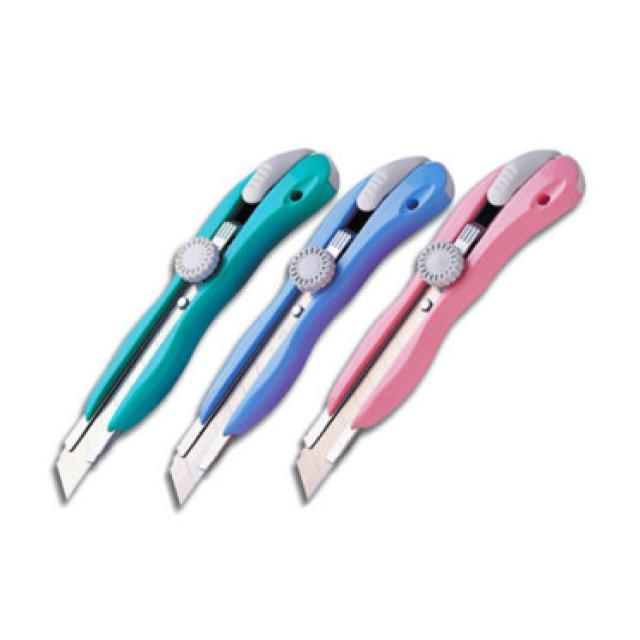cutter: (288, 140, 600, 514), (160, 147, 459, 519), (51, 143, 342, 511)
